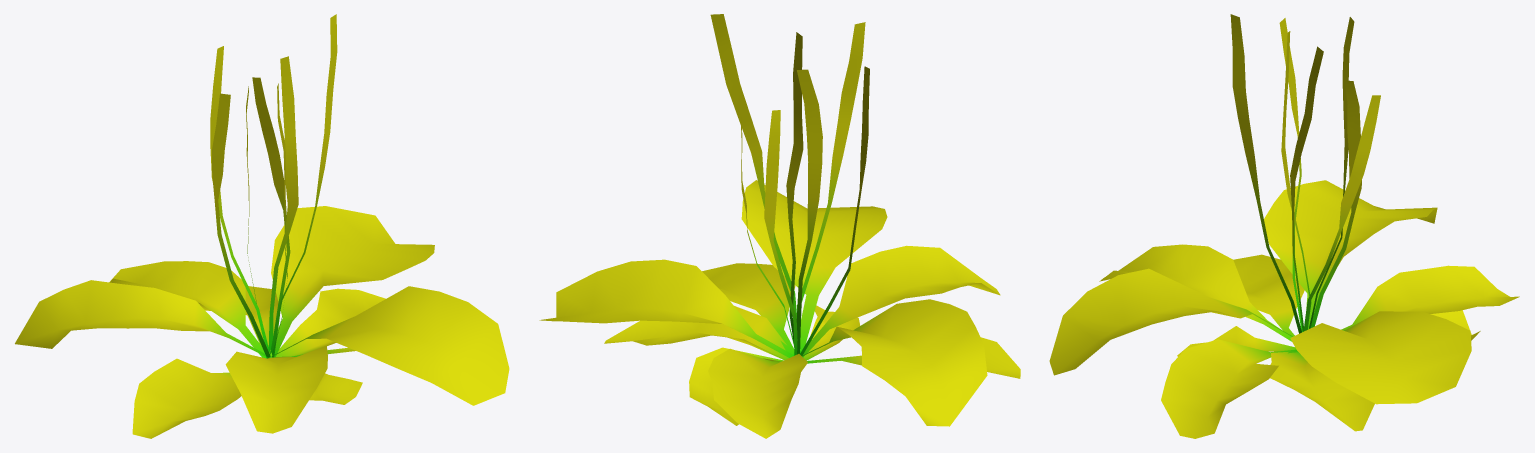
The model's file is Broadleaf Plantain_LOD0_Var1_sfhjc.fbx.
The picture shows the model from 3 angles, left to right: view 1: azimuth 30°, elevation 25°; view 2: azimuth 150°, elevation 25°; view 3: azimuth 270°, elevation 25°; orthographic projection. The views are drawn at different scales.
Parts seen in each view (by area): view 1: _0c97_Var1_LOD0; view 2: _0c97_Var1_LOD0; view 3: _0c97_Var1_LOD0.
Boxes of the visible parts, x1,y1,x2,y2 form: _0c97_Var1_LOD0: [15, 14, 509, 438]; _0c97_Var1_LOD0: [539, 14, 1020, 438]; _0c97_Var1_LOD0: [1049, 14, 1519, 438].
Size of the model in its own units: 37.51 by 29.24 by 36.88.
